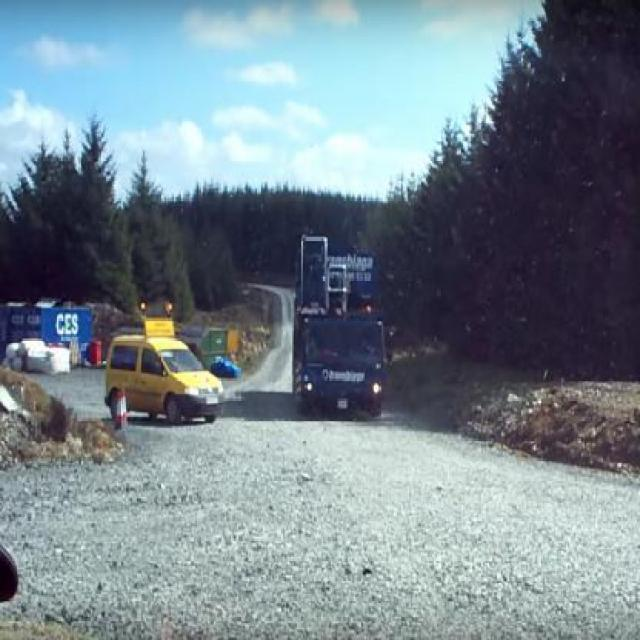Mobile Crane: (288, 227, 390, 418)
